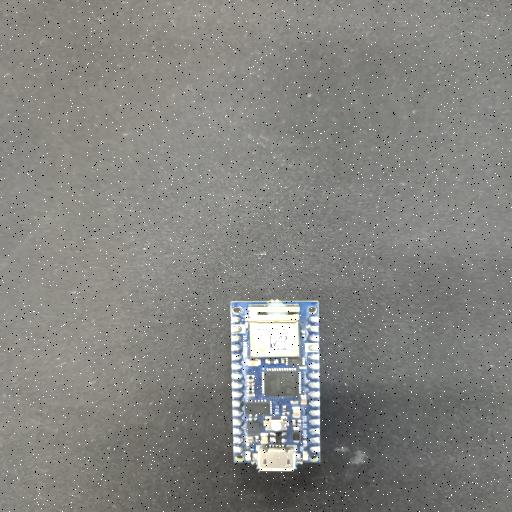arduino-nano-iot-33: (231, 300, 320, 471)
